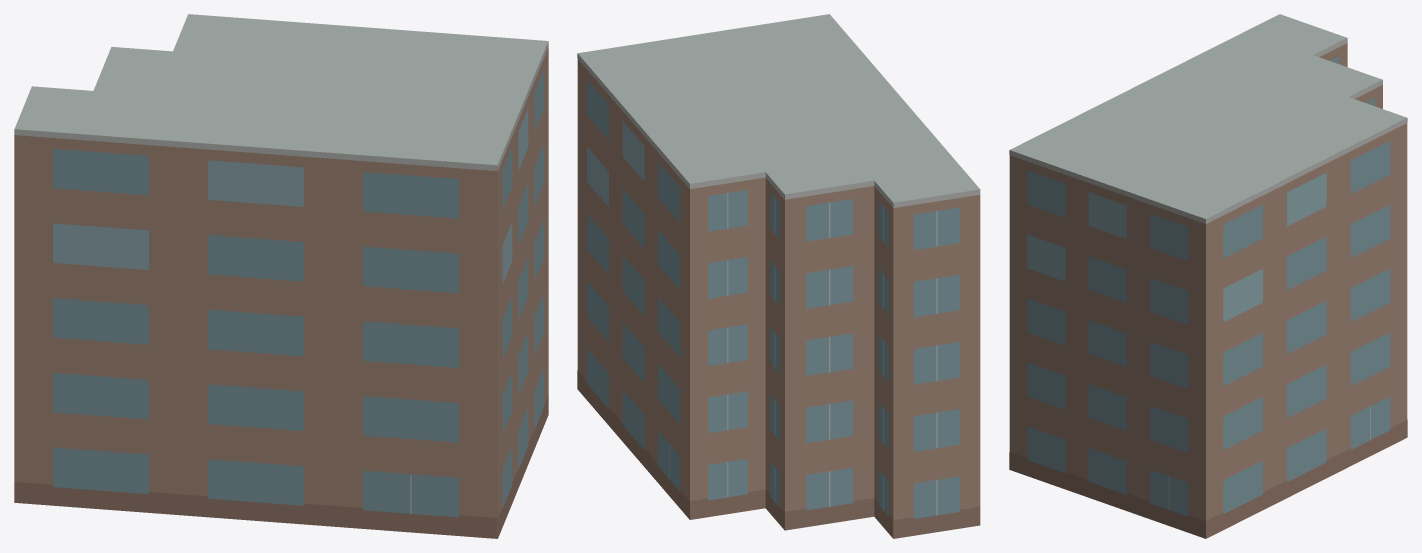
File: survey-upis-32661531.glb
The picture shows the model from 3 angles, left to right: view 1: azimuth 30°, elevation 25°; view 2: azimuth 150°, elevation 25°; view 3: azimuth 270°, elevation 25°; orthographic projection. The views are drawn at different scales.
Parts seen in each view (by area): view 1: survey-upis-32661531.tmp; view 2: survey-upis-32661531.tmp; view 3: survey-upis-32661531.tmp.
Part boxes in pixels (box(x1,y1,x2,y2)): survey-upis-32661531.tmp: box(14, 14, 548, 538); survey-upis-32661531.tmp: box(577, 14, 980, 538); survey-upis-32661531.tmp: box(1009, 14, 1407, 538).
Size of the model in its own units: 21.33 by 15.5 by 17.49.
